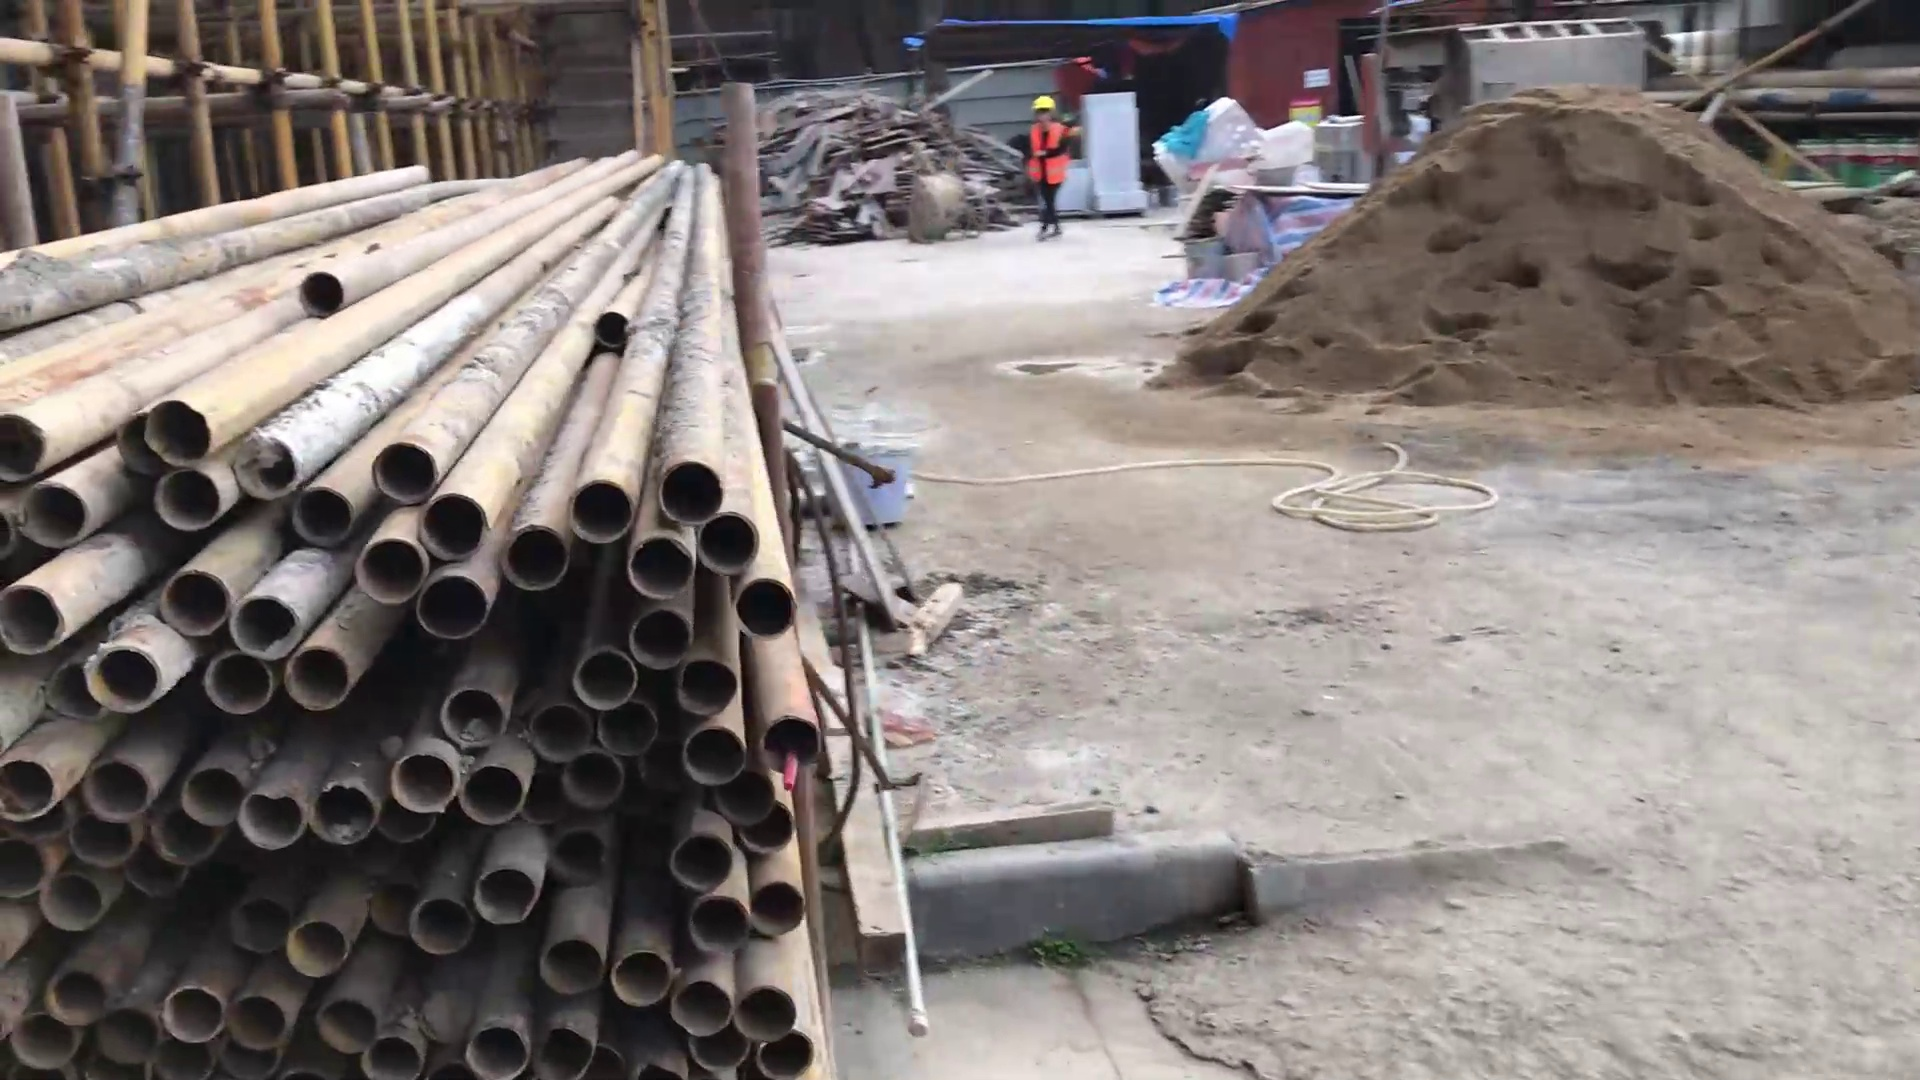brick: (1053, 90, 1154, 216)
handcart: (894, 110, 969, 247)
helmet: (1032, 83, 1064, 115)
person: (1022, 86, 1073, 250)
vest: (1023, 119, 1075, 190)
